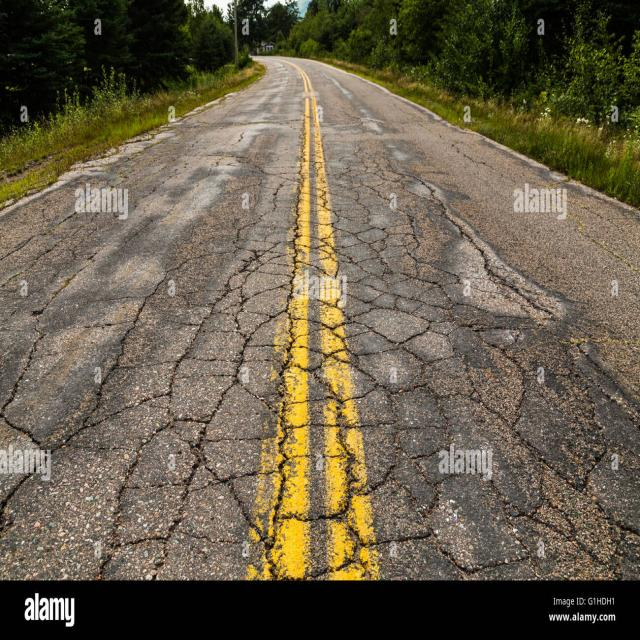Drain Hole: (138, 162, 605, 559)
